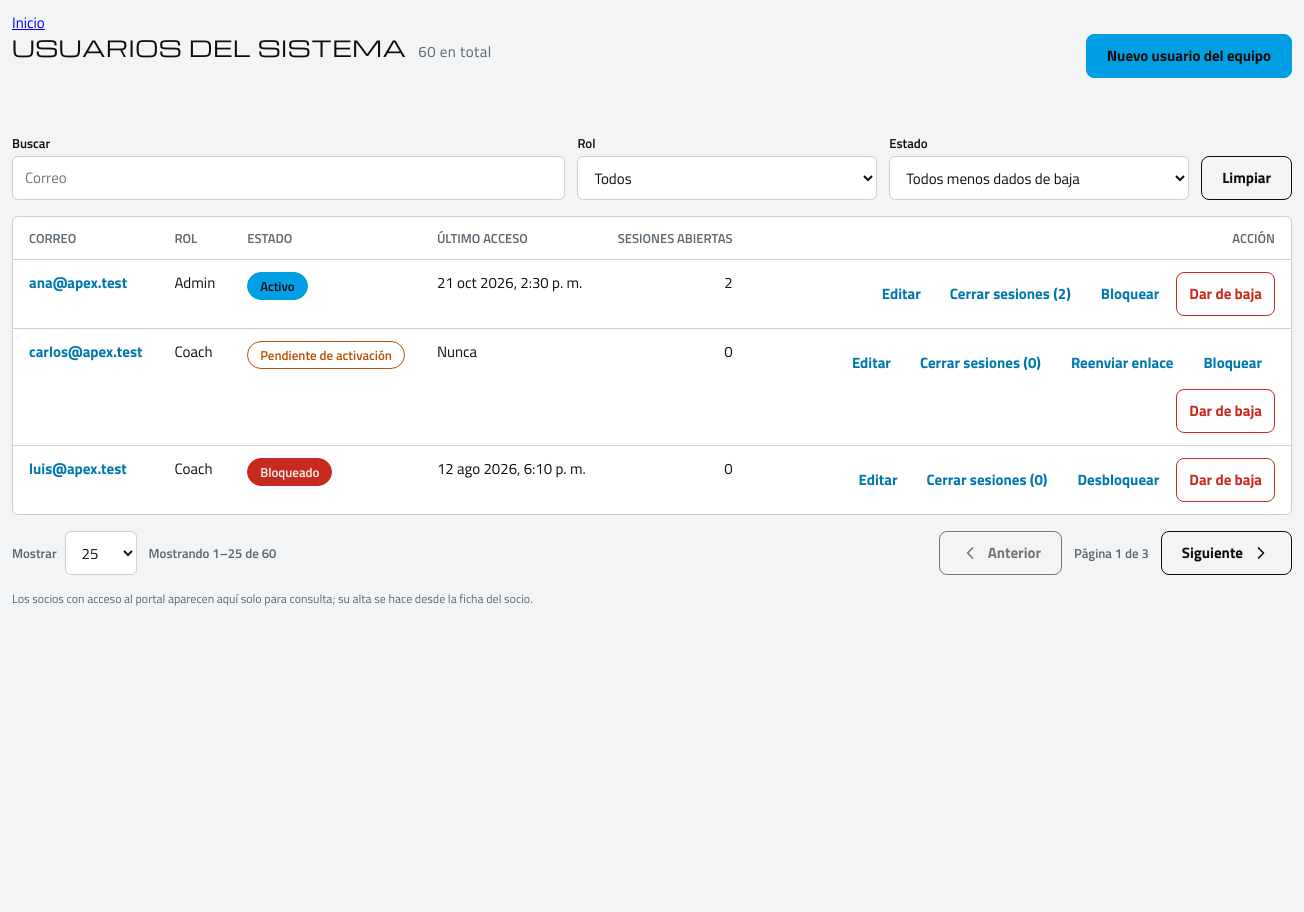
Scenario: UsersPage · filtros y paginación en la URL › mientras llega la página siguiente la tabla queda ocupada y no muestra las filas viejas como nuevas
expect the text "Mostrando 1–25 de 60" is shown: met, box [149, 544, 276, 562]
What coordinates should you click on to do the following:
click the button "Siguiente"
I would click on:
 (1226, 553)
Its box is [1161, 531, 1292, 575].
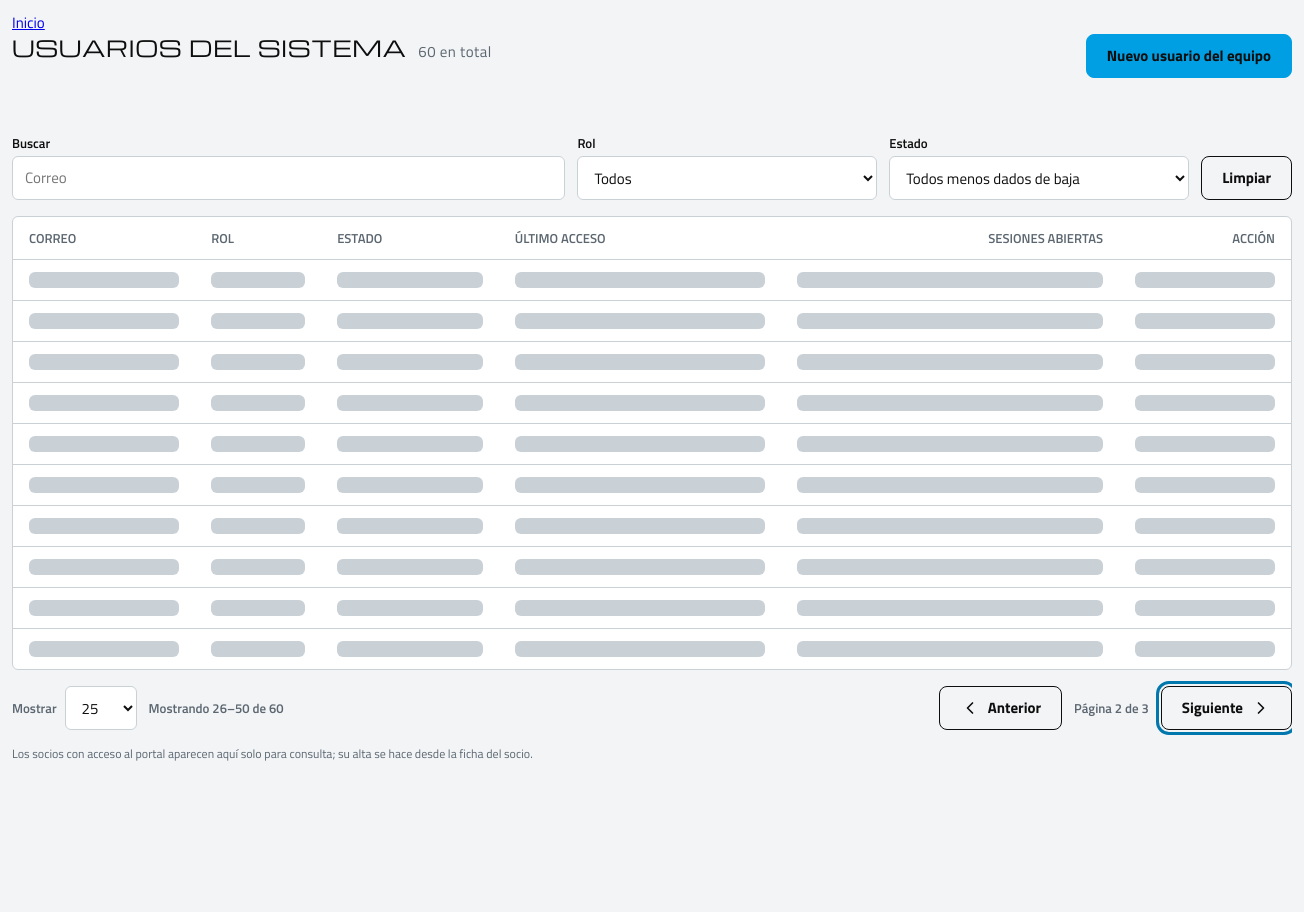
expect the link "ana@apex.test" is gone: met
